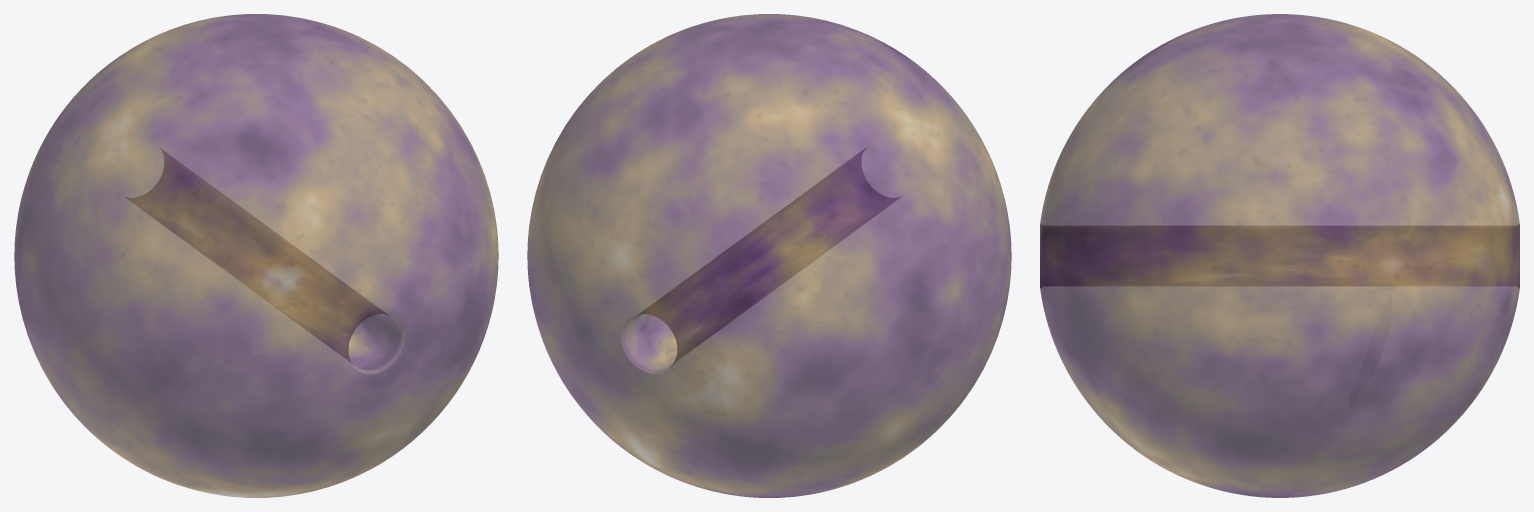
File: super-seven.glb
The picture shows the model from 3 angles, left to right: view 1: azimuth 30°, elevation 25°; view 2: azimuth 150°, elevation 25°; view 3: azimuth 270°, elevation 25°; orthographic projection.
Parts seen in each view (by area): view 1: super-seven.001; view 2: super-seven.001; view 3: super-seven.001.
Part boxes in pixels (left/top/right/bottom): super-seven.001: left=14, top=14, right=498, bottom=497; super-seven.001: left=527, top=14, right=1011, bottom=497; super-seven.001: left=1040, top=14, right=1519, bottom=497.
Size of the model in its own units: 0.008 by 0.008 by 0.00793.
Materials: 2 (1 with a texture image).
